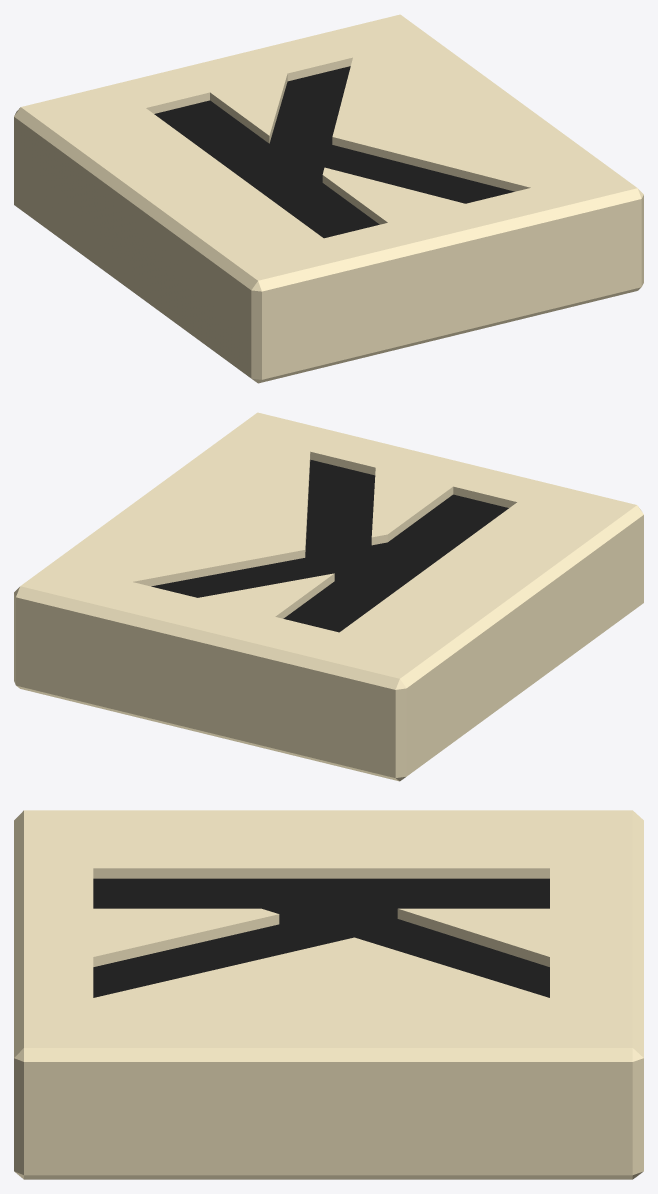
File: Game_Anagram_Tile_K_01.fbx
3 views of the same model, one above another, from view 1: azimuth 30°, elevation 25°; view 2: azimuth 150°, elevation 25°; view 3: azimuth 270°, elevation 25° (orthographic). The views are drawn at different scales.
Parts seen in each view (by area): view 1: Model; view 2: Model; view 3: Model.
Boxes of the visible parts, x1,y1,x2,y2 form: Model: [14, 14, 643, 383]; Model: [14, 412, 643, 781]; Model: [14, 810, 643, 1179].
Size of the model in its own units: 463 by 116 by 502.
